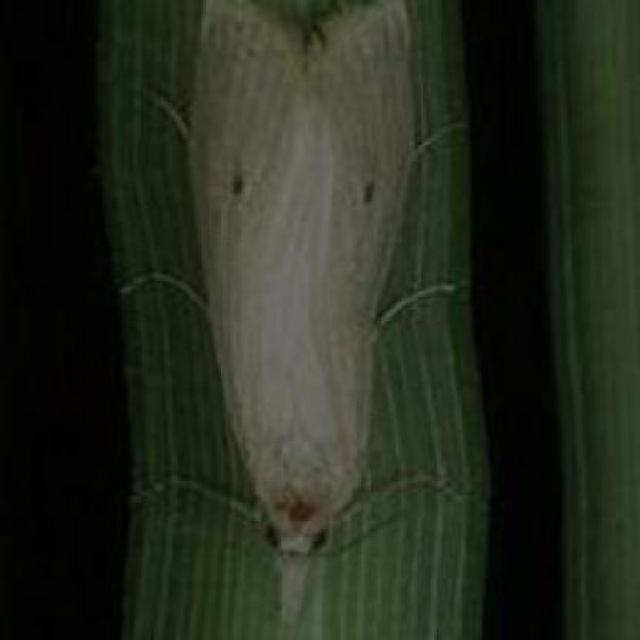stem-borer: (134, 0, 451, 628)
